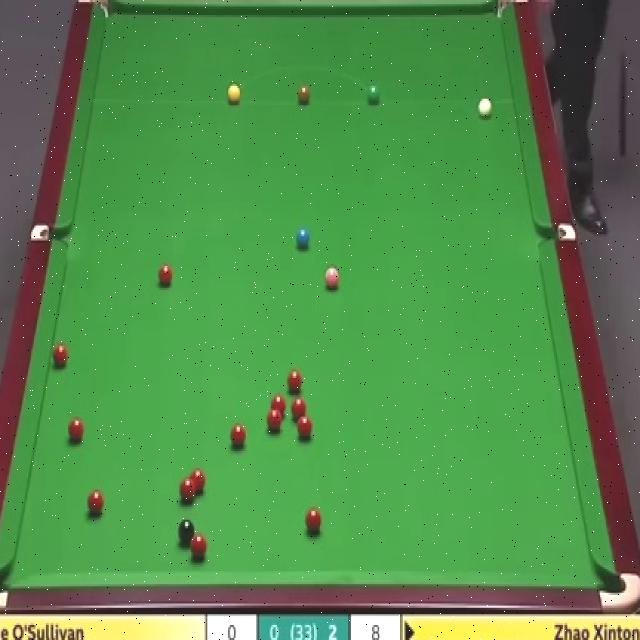black-ball: (178, 518, 197, 543)
blue-ball: (296, 225, 310, 252)
brown-ball: (297, 84, 311, 104)
green-ball: (366, 84, 380, 104)
pink-ball: (324, 268, 341, 292)
red-ball: (304, 504, 323, 537), (83, 488, 104, 516), (228, 420, 247, 450), (50, 343, 70, 371), (65, 414, 84, 442), (269, 392, 288, 418), (285, 369, 305, 393), (180, 476, 198, 502), (191, 469, 209, 493), (266, 409, 284, 433), (192, 534, 207, 561), (294, 400, 310, 425), (298, 414, 312, 436), (158, 266, 173, 286)
white-ball: (479, 97, 492, 122)
yellow-ball: (227, 84, 241, 104)
